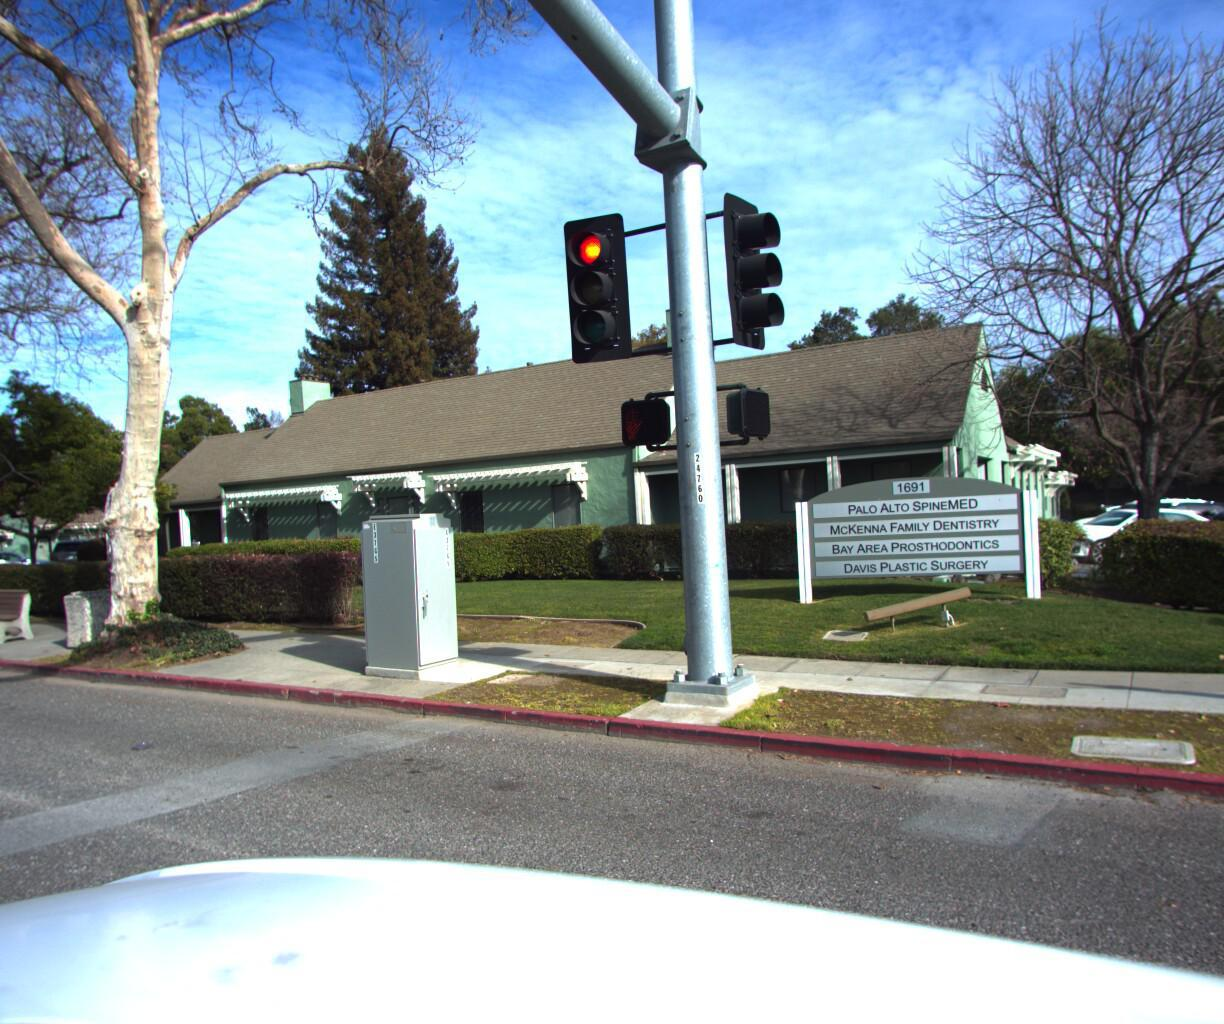car: (1093, 491, 1224, 623), (1029, 495, 1224, 569), (1082, 485, 1224, 547), (49, 531, 130, 576), (0, 538, 70, 585)
